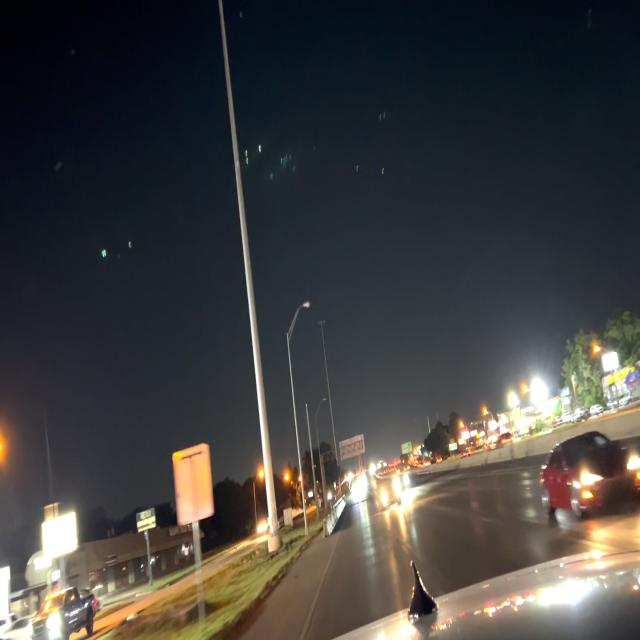back-of-sign: (173, 444, 214, 530)
